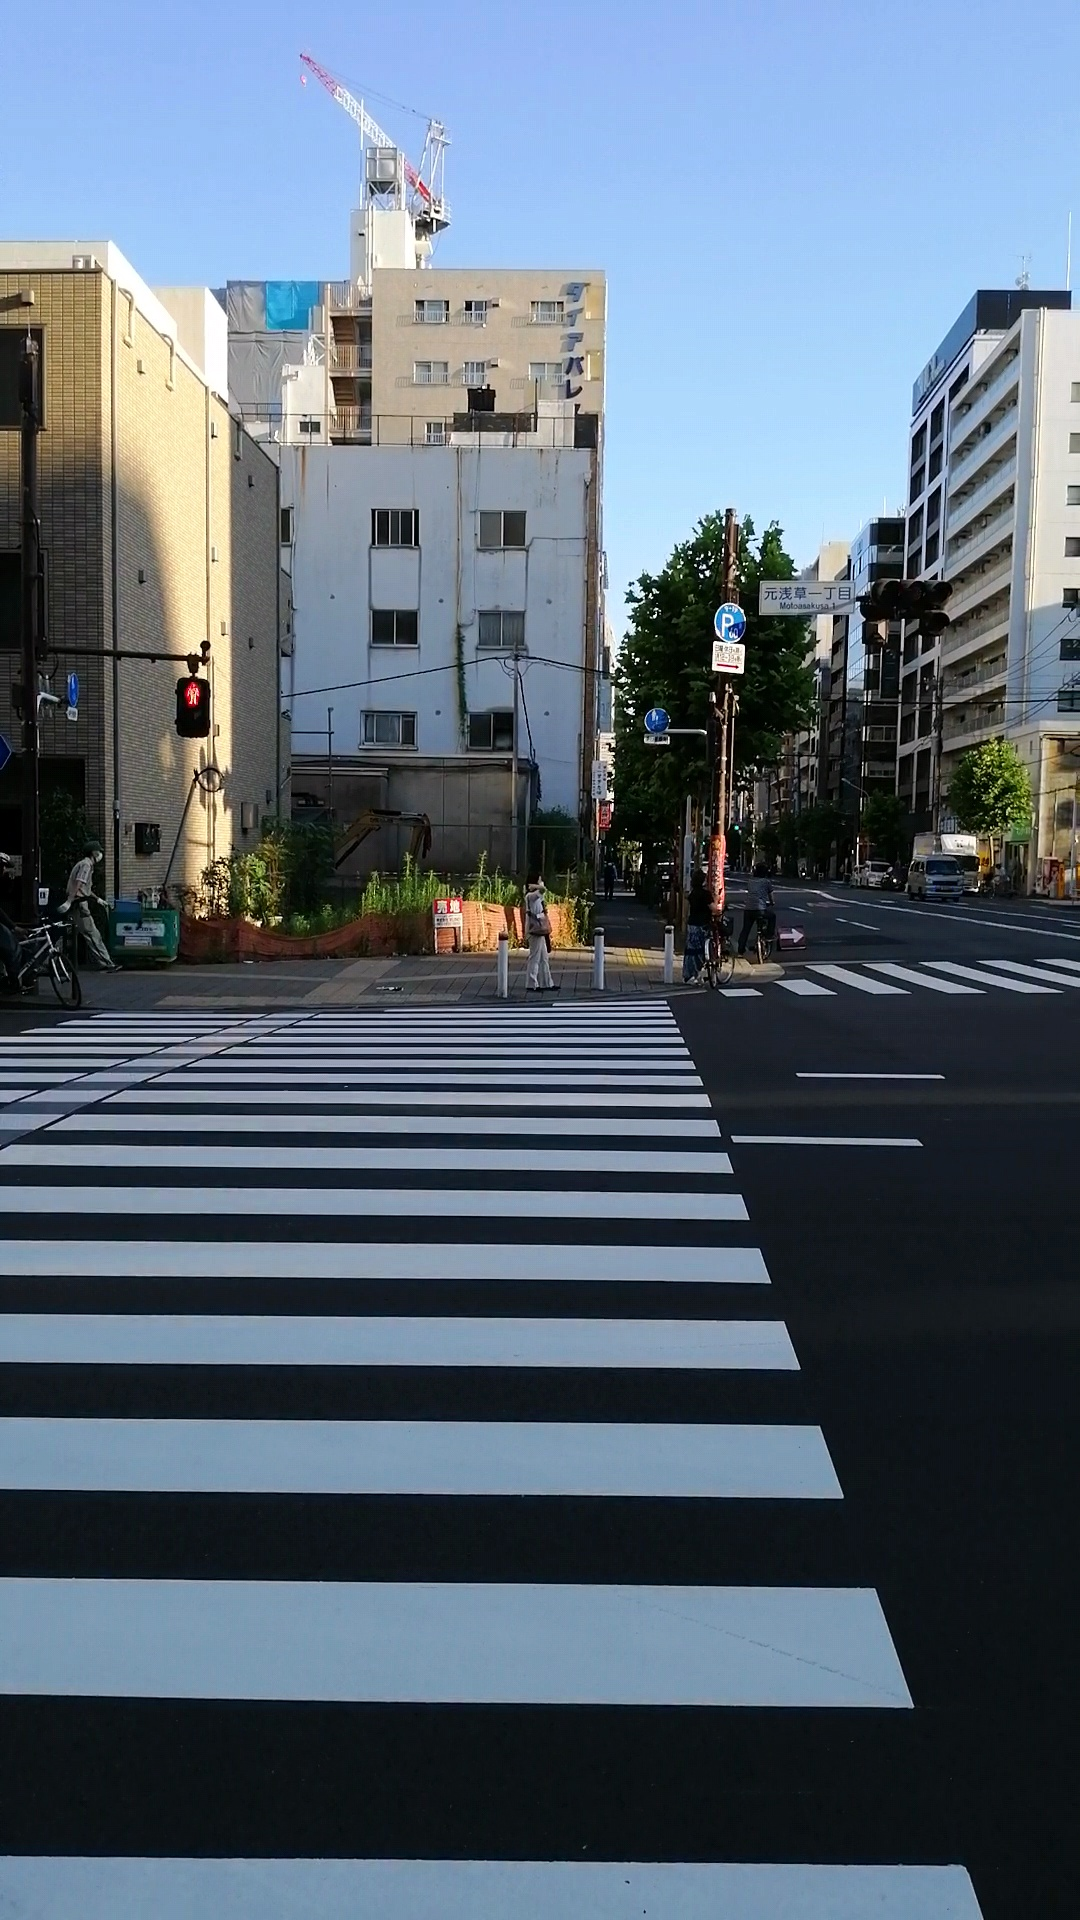red: (175, 675, 211, 737)
